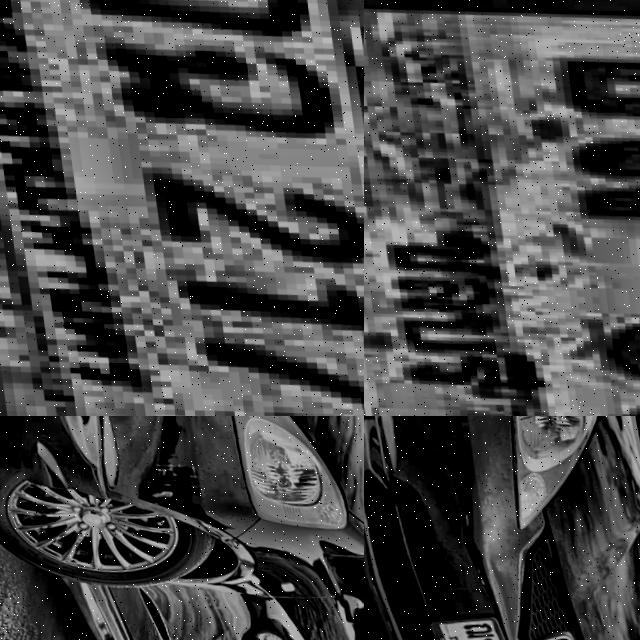license-plate: (0, 0, 364, 416), (364, 0, 640, 416), (418, 599, 526, 640)
